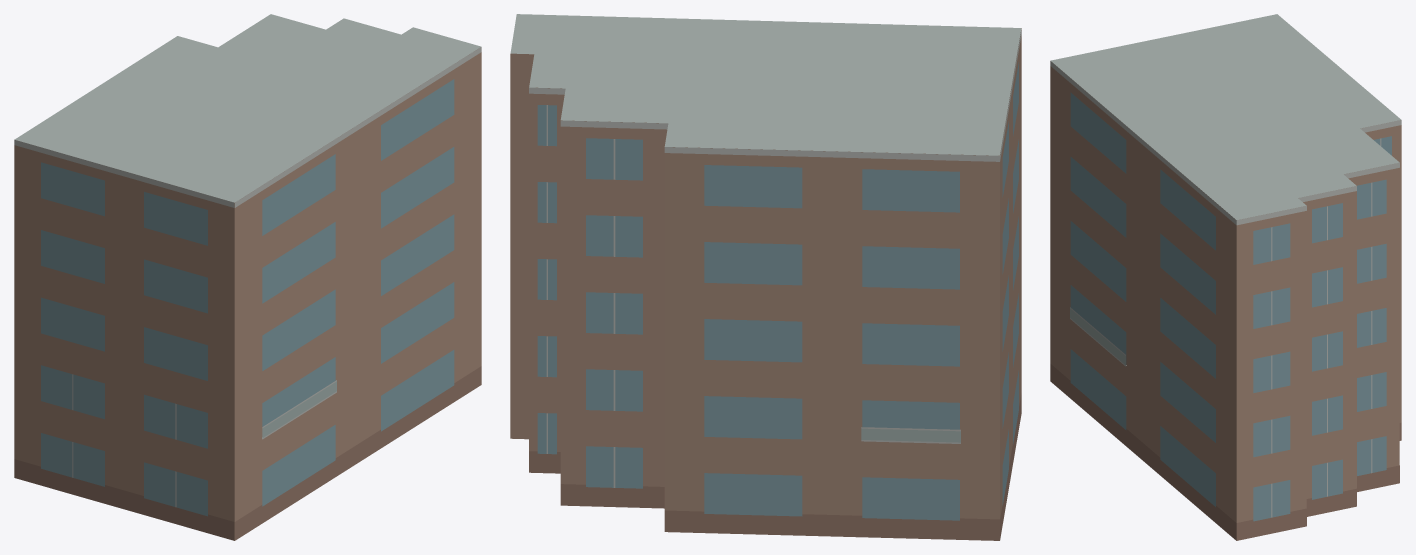
The model's file is survey-upis-32928939.glb.
3 renders of one model, left to right at view 1: azimuth 30°, elevation 25°; view 2: azimuth 150°, elevation 25°; view 3: azimuth 270°, elevation 25°, orthographic. The views are drawn at different scales.
Visible parts, largest first — view 1: survey-upis-32928939.tmp; view 2: survey-upis-32928939.tmp; view 3: survey-upis-32928939.tmp.
Boxes of the visible parts, <box> form: survey-upis-32928939.tmp: <box>14,14,481,540</box>; survey-upis-32928939.tmp: <box>510,14,1021,540</box>; survey-upis-32928939.tmp: <box>1050,14,1401,540</box>.
Bounding box in the file's own units: 21.05 × 15.25 × 15.15.
